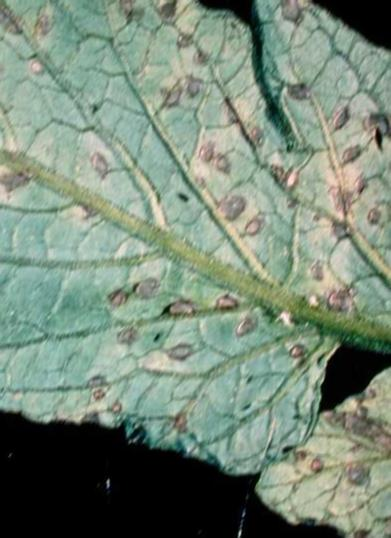Tomato Septoria leaf spot: (0, 0, 391, 508), (253, 361, 391, 535)
